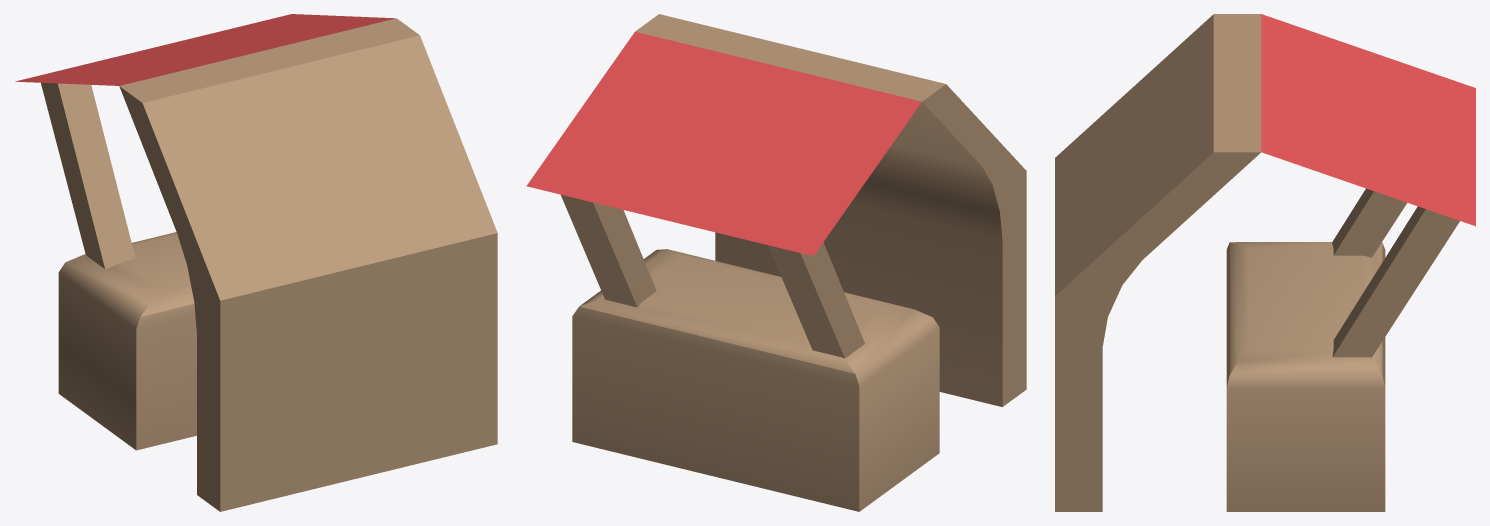
File: placeholder_stand_01.fbx
3 renders of one model, left to right at view 1: azimuth 30°, elevation 25°; view 2: azimuth 150°, elevation 25°; view 3: azimuth 270°, elevation 25°, orthographic. The views are drawn at different scales.
Parts seen in each view (by area): view 1: Cube; view 2: Cube; view 3: Cube.
Part boxes in pixels (x1,y1,x2,y2): Cube: [15, 14, 497, 511]; Cube: [526, 14, 1026, 511]; Cube: [1055, 14, 1475, 511].
Bounding box in the file's own units: 412 × 502 × 530.
